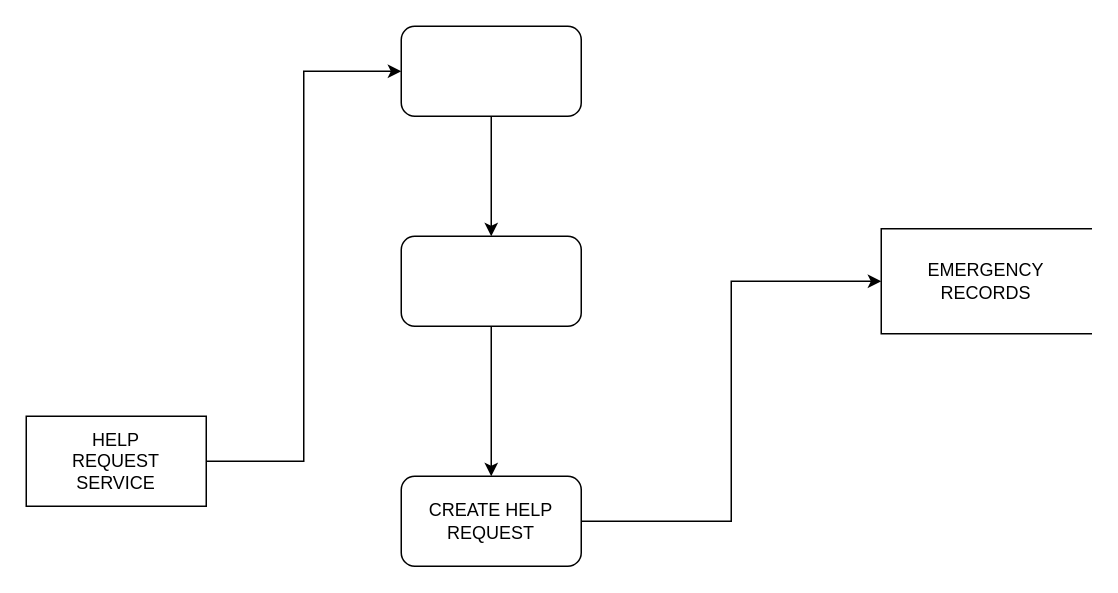
Image size: 1118x593. Some labels were removed from this diagram. The shapes that lost their labels are listed below. From the top down, each one's box as (x1, y1, x2, y2) in pixels, then its label:
(400, 25, 581, 116): REVIEW EXISTING REQUESTS
(400, 235, 581, 326): FIND SUPERUSER
